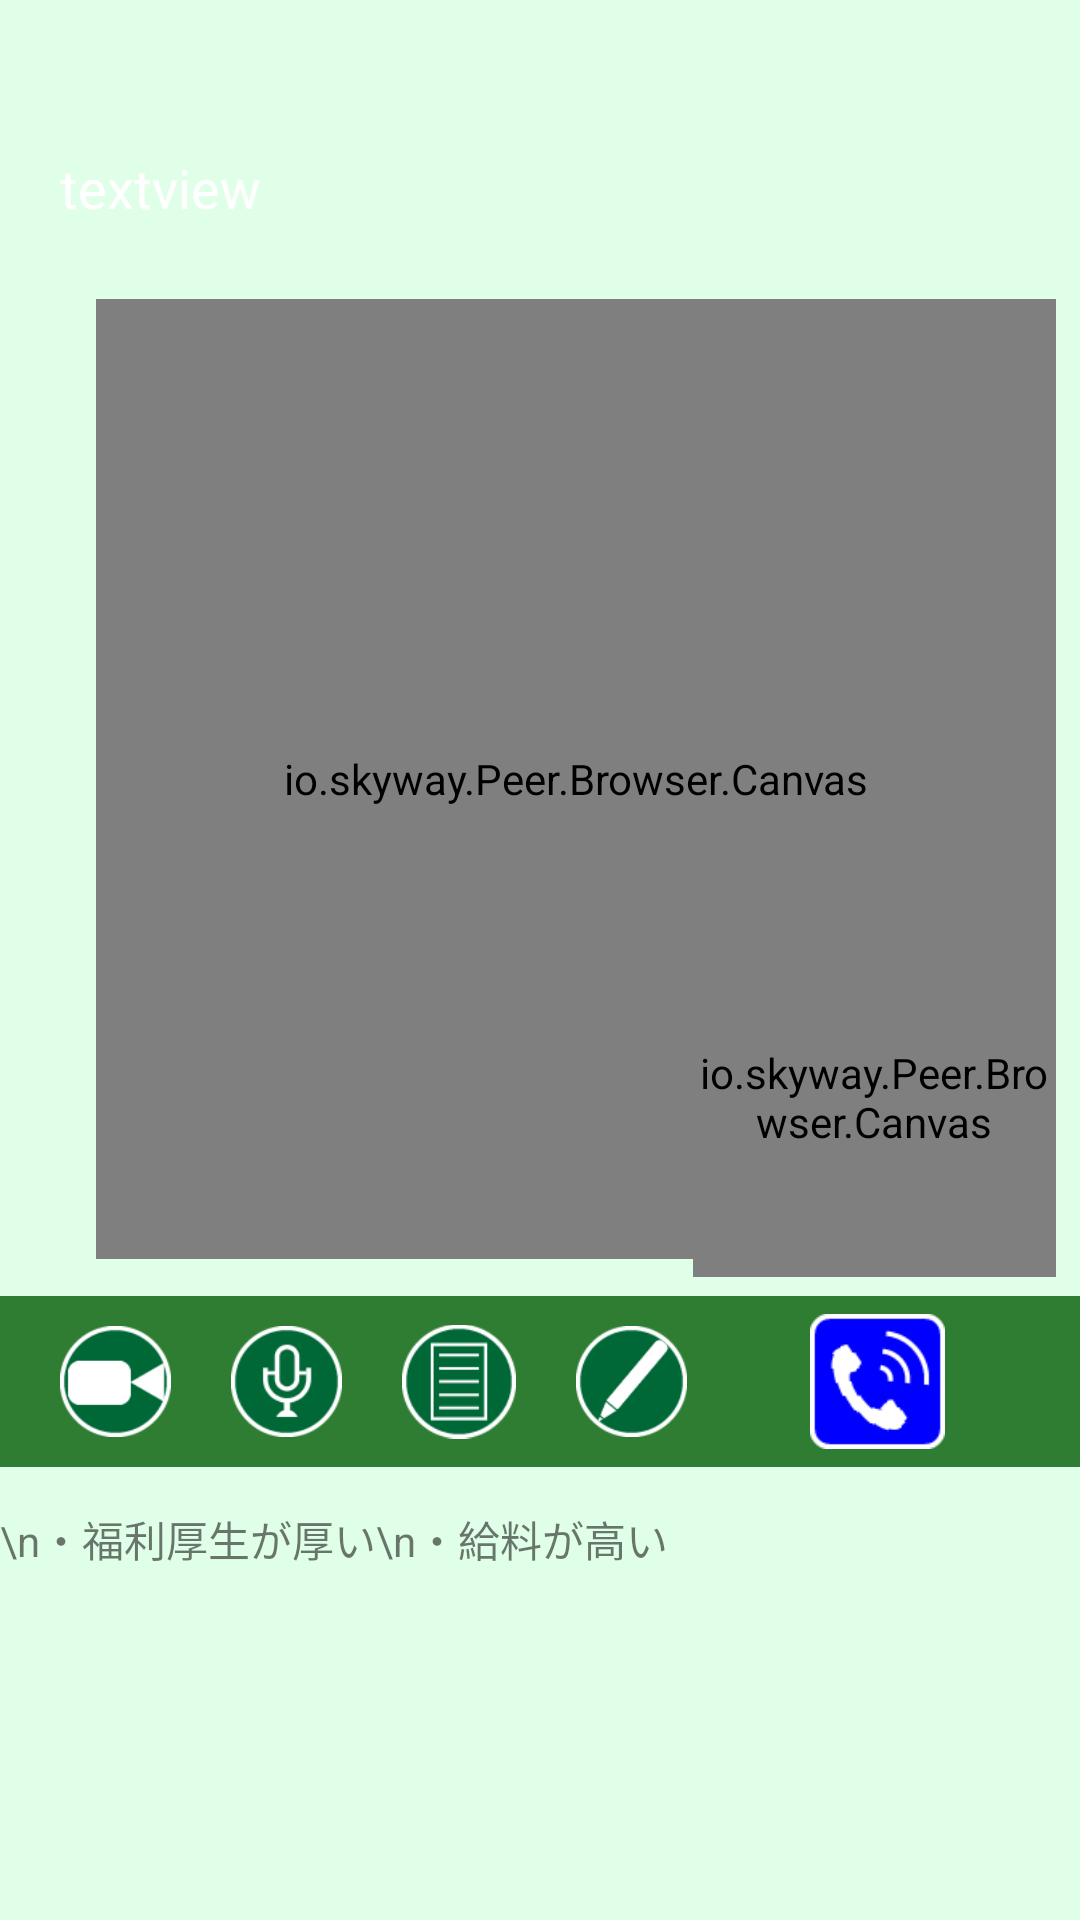

Icons on this 1080*1920 Android screen, each with its box as region(x1, y1, x2, y2):
skyway call squire: region(810, 1314, 945, 1449)
skyway mike: region(231, 1326, 342, 1437)
skyway video: region(60, 1326, 171, 1437)
